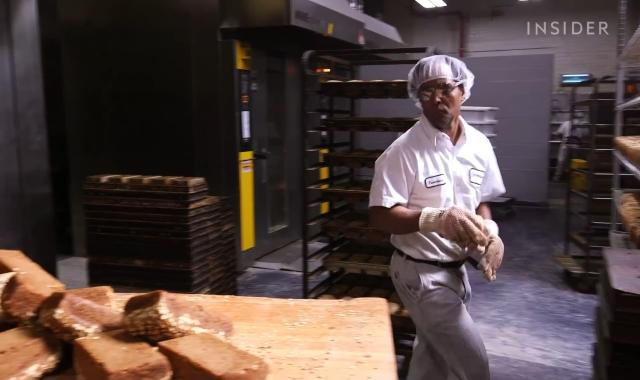hairnet: (404, 55, 476, 102)
